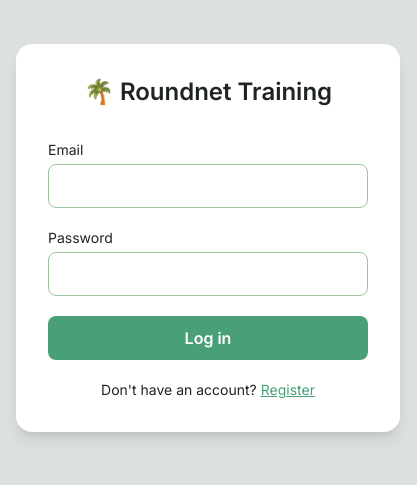
Test case: LoginPage › displays error message on login failure
In the field labelled "Email": (208, 186) [48, 164, 368, 208], type "alice@example.com"
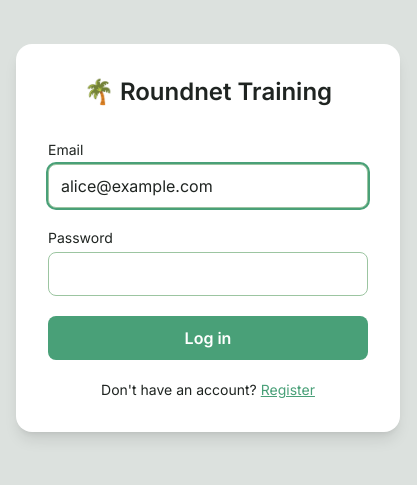
In the password field labelled "Password": (208, 274) [48, 252, 368, 296], type "wrong"
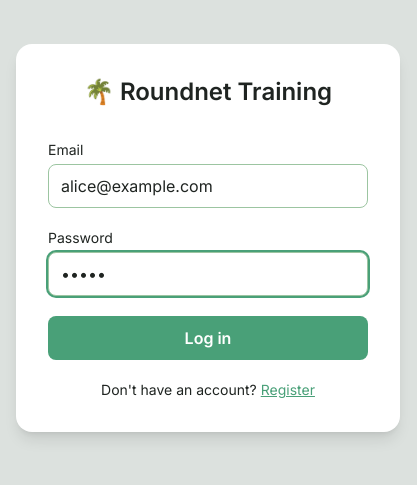
Click the button "Log in": (208, 338) [48, 316, 368, 360]
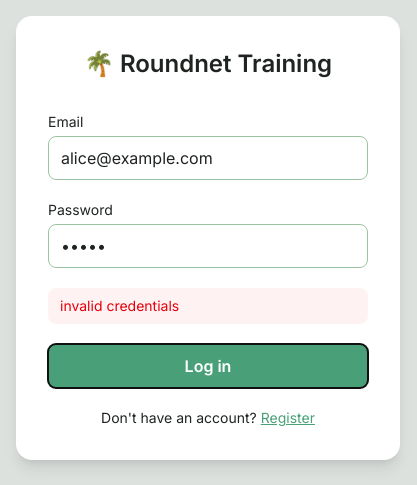
Now the message "invalid credentials" is shown, box [48, 288, 368, 324]
